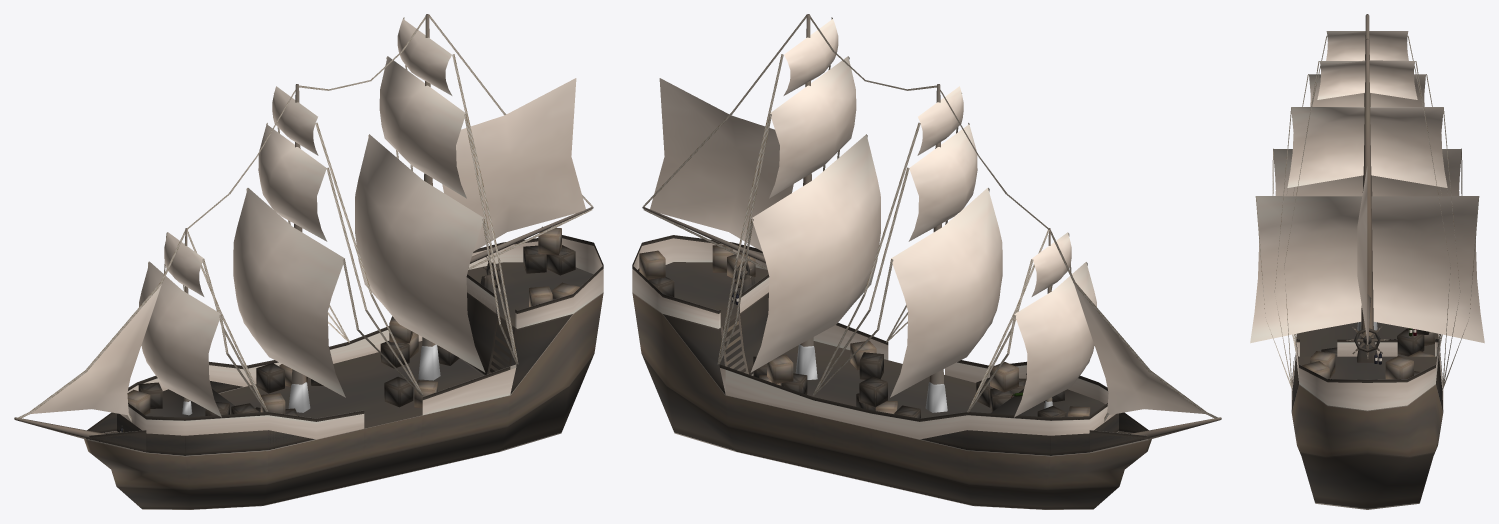
File: Pirate_Ship_DS.fbx
3 views of the same model, side by side, from view 1: azimuth 30°, elevation 25°; view 2: azimuth 150°, elevation 25°; view 3: azimuth 270°, elevation 25° (orthographic). The views are drawn at different scales.
Visible parts, largest first — view 1: Pirate Ship, Pirate Ship Double Side; view 2: Pirate Ship, Pirate Ship Double Side; view 3: Pirate Ship, Pirate Ship Double Side.
Part boxes in pixels (left/top/right/bottom): Pirate Ship: left=14, top=14, right=603, bottom=509; Pirate Ship Double Side: left=88, top=20, right=603, bottom=449; Pirate Ship: left=632, top=14, right=1221, bottom=509; Pirate Ship Double Side: left=632, top=18, right=1146, bottom=451; Pirate Ship: left=1250, top=14, right=1484, bottom=509; Pirate Ship Double Side: left=1252, top=31, right=1483, bottom=409.
Bounding box in the file's own units: 3437 × 2411 × 1240.
1 material, 1 textured.
